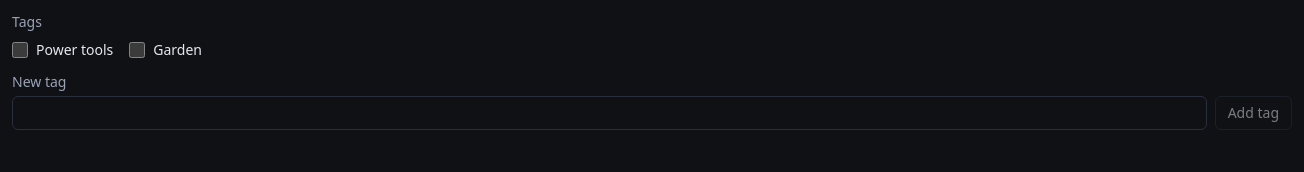
Scenario: TagPicker › creates on Enter without submitting a surrounding form
Expected: the checkbox labelled "Garden" is shown, [129,42,145,58]
Type "Kitchen" into the field labelled "New tag" at (609, 113), box [12,96,1207,130]
Then press Enter
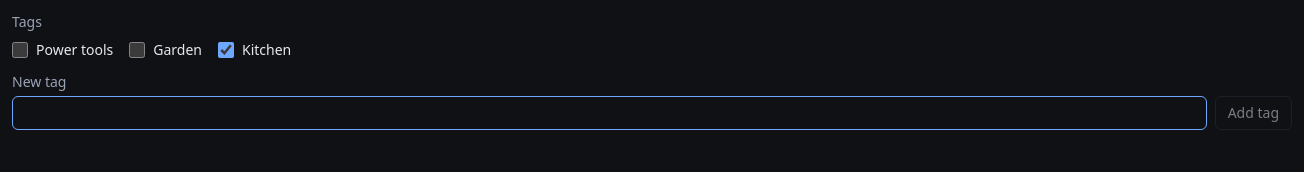
Expected: the checkbox labelled "Kitchen" is shown, [218,42,234,58]
